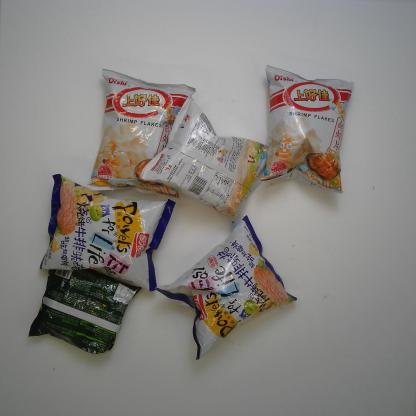Instant Noodles: (26, 267, 141, 355)
Puffed Food: (154, 214, 301, 362), (137, 92, 276, 230), (36, 171, 177, 293), (86, 67, 199, 201), (258, 64, 356, 196)
